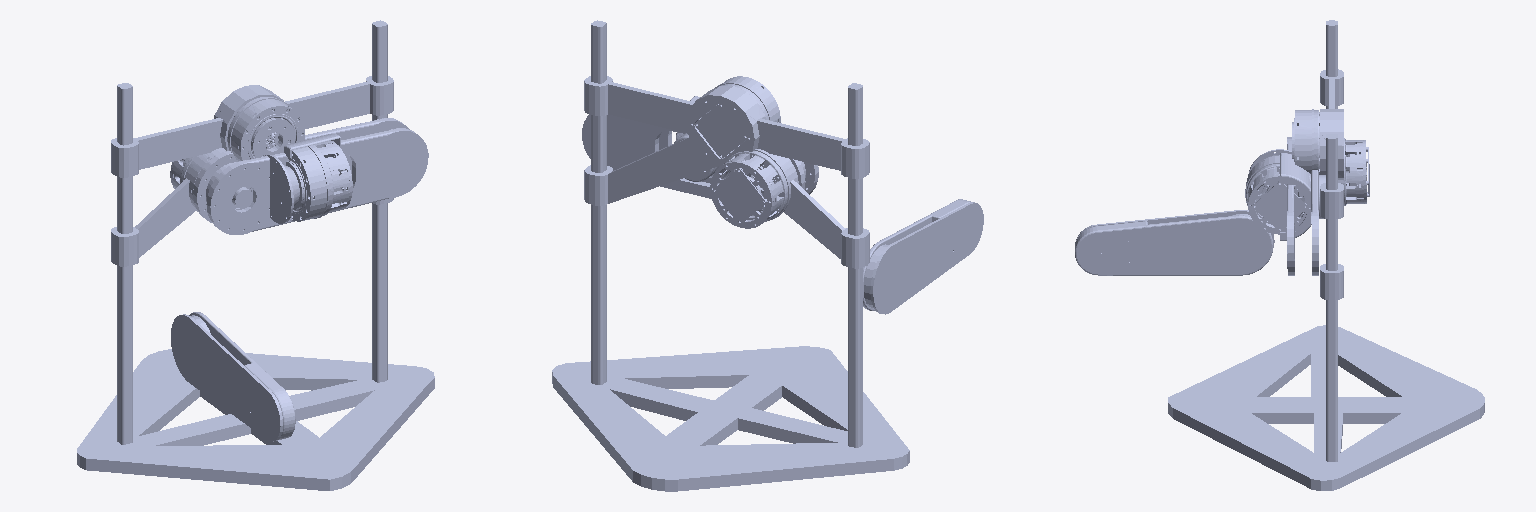
The robot description file, URDF, robot "titanleg":
<?xml version="1.0" encoding="utf-8"?>
<robot
name="titanleg" xmlns:xacro="http://ros.org/wiki/xacro">
<link
  name="world_link"/>
  <link
    name="base_link">
    <inertial>
      <origin
        xyz="0.21336 -0.47164 0.19641"
        rpy="0 0 0" />
      <mass
        value="4.5603" />
      <inertia
        ixx="0.18944"
        ixy="0.0010776"
        ixz="-0.0011006"
        iyy="0.2416"
        iyz="-0.0025115"
        izz="0.14467" />
    </inertial>
    <visual>
      <origin
        xyz="0 0 0"
        rpy="0 0 0" />
      <geometry>
        <mesh
          filename="package://my_box_bot_gazebo/meshes/base_link.STL" />
      </geometry>
      <material
        name="">
        <color
          rgba="0.79216 0.81961 0.93333 1" />
      </material>
    </visual>
    <collision>
      <origin
        xyz="0 0 0"
        rpy="0 0 0" />
      <geometry>
        <mesh
          filename="package://my_box_bot_gazebo/meshes/base_link.STL" />
      </geometry>
    </collision>
  </link>
  <joint
    name="dummy_joint"
    type="fixed">
    <parent
      link="world_link" />
    <child
      link="base_link" />
  </joint>
  <link
    name="c_bracket">
    <inertial>
      <origin
        xyz="0.053183 -0.068959 -0.12051"
        rpy="0 0 0" />
      <mass
        value="0.77495" />
      <inertia
        ixx="0.00075346"
        ixy="1.5562E-07"
        ixz="-3.3726E-08"
        iyy="0.00068021"
        iyz="1.2441E-09"
        izz="0.0011515" />
    </inertial>
    <visual>
      <origin
        xyz="0 0 0"
        rpy="0 0 0" />
      <geometry>
        <mesh
          filename="package://my_box_bot_gazebo/meshes/c_bracket.STL" />
      </geometry>
      <material
        name="">
        <color
          rgba="0.79216 0.81961 0.93333 1" />
      </material>
    </visual>
    <collision>
      <origin
        xyz="0 0 0"
        rpy="0 0 0" />
      <geometry>
        <mesh
          filename="package://my_box_bot_gazebo/meshes/c_bracket.STL" />
      </geometry>
    </collision>
  </link>
  <joint
    name="cb_joint"
    type="revolute">
    <origin
      xyz="0.31938 -0.55114 0.47454"
      rpy="-1.5708 0 -1.5708" />
    <parent
      link="base_link" />
    <child
      link="c_bracket" />
    <axis
      xyz="0 0 0" />
    <limit
      lower="0"
      upper="0"
      effort="0"
      velocity="0" />
  </joint>
  <link
    name="motor_leg">
    <inertial>
      <origin
        xyz="0.079264 0.0075092 0.10751"
        rpy="0 0 0" />
      <mass
        value="1.3711" />
      <inertia
        ixx="0.010587"
        ixy="-5.0116E-05"
        ixz="-2.613E-07"
        iyy="0.0014883"
        iyz="7.3076E-07"
        izz="0.011903" />
    </inertial>
    <visual>
      <origin
        xyz="0 0 0"
        rpy="0 0 0" />
      <geometry>
        <mesh
          filename="package://my_box_bot_gazebo/meshes/motor_leg.STL" />
      </geometry>
      <material
        name="">
        <color
          rgba="0.79216 0.81961 0.93333 1" />
      </material>
    </visual>
    <collision>
      <origin
        xyz="0 0 0"
        rpy="0 0 0" />
      <geometry>
        <mesh
          filename="package://my_box_bot_gazebo/meshes/motor_leg.STL" />
      </geometry>
    </collision>
  </link>
  <joint
    name="motor_leg_joint"
    type="revolute">
    <origin
      xyz="-0.011894 0.010745 -0.16143"
      rpy="3.1416 0 0.010453" />
    <parent
      link="c_bracket" />
    <child
      link="motor_leg" />
    <axis
      xyz="0 0 0" />
    <limit
      lower="0"
      upper="0"
      effort="0"
      velocity="0" />
  </joint>
  <link
    name="lowerleg">
    <inertial>
      <origin
        xyz="0.12376 0.15623 0.20854"
        rpy="0 0 0" />
      <mass
        value="0.66281" />
      <inertia
        ixx="0.0053278"
        ixy="-8.1103E-06"
        ixz="3.0145E-07"
        iyy="0.00048348"
        iyz="0.00018364"
        izz="0.0057605" />
    </inertial>
    <visual>
      <origin
        xyz="0 0 0"
        rpy="0 0 0" />
      <geometry>
        <mesh
          filename="package://my_box_bot_gazebo/meshes/lowerleg.STL" />
      </geometry>
      <material
        name="">
        <color
          rgba="0.79216 0.81961 0.93333 1" />
      </material>
    </visual>
    <collision>
      <origin
        xyz="0 0 0"
        rpy="0 0 0" />
      <geometry>
        <mesh
          filename="package://my_box_bot_gazebo/meshes/lowerleg.STL" />
      </geometry>
    </collision>
  </link>
  <joint
    name="lower_joint"
    type="revolute">
    <origin
      xyz="0.3406 -0.32494 -0.080516"
      rpy="0 0 1.527" />
    <parent
      link="motor_leg" />
    <child
      link="lowerleg" />
    <axis
      xyz="0 0 0" />
    <limit
      lower="0"
      upper="0"
      effort="0"
      velocity="0" />
  </joint>
</robot>

--- What the picture shows (computed from the rendered views, not written in the file) ---
Views: 3 orthographic renders of the robot side by side, from view 1: azimuth 30°, elevation 25°; view 2: azimuth 150°, elevation 25°; view 3: azimuth 270°, elevation 25°.
Robot: titanleg — 5 links, 4 joints (3 revolute, 1 fixed); root link world_link; default pose: all joints at 0.
Visible links, largest first — view 1: base_link, motor_leg, lowerleg, c_bracket; view 2: base_link, motor_leg, lowerleg; view 3: base_link, lowerleg, c_bracket, motor_leg.
Link boxes in pixels (x1,y1,x2,y2): base_link: (77,20,434,490); motor_leg: (170,118,428,234); lowerleg: (171,312,295,441); c_bracket: (267,134,352,223); base_link: (552,20,909,491); motor_leg: (582,114,818,228); lowerleg: (863,199,983,314); base_link: (1168,20,1484,490); lowerleg: (1075,210,1274,275); c_bracket: (1245,149,1325,240); motor_leg: (1287,137,1369,275).
Size in the robot's own frame: 0.6185 by 0.6898 by 0.62 metres.
4 mesh visuals loaded from 4 distinct referenced files (4 binary STL).